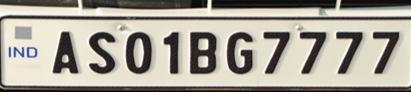0: (123, 29, 154, 75)
1: (159, 28, 182, 78)
7: (259, 27, 292, 79), (295, 26, 329, 76), (333, 28, 366, 79), (370, 28, 400, 78)
A: (47, 27, 81, 77)
B: (188, 28, 220, 80)
G: (222, 27, 257, 76)
S: (85, 28, 116, 75)
